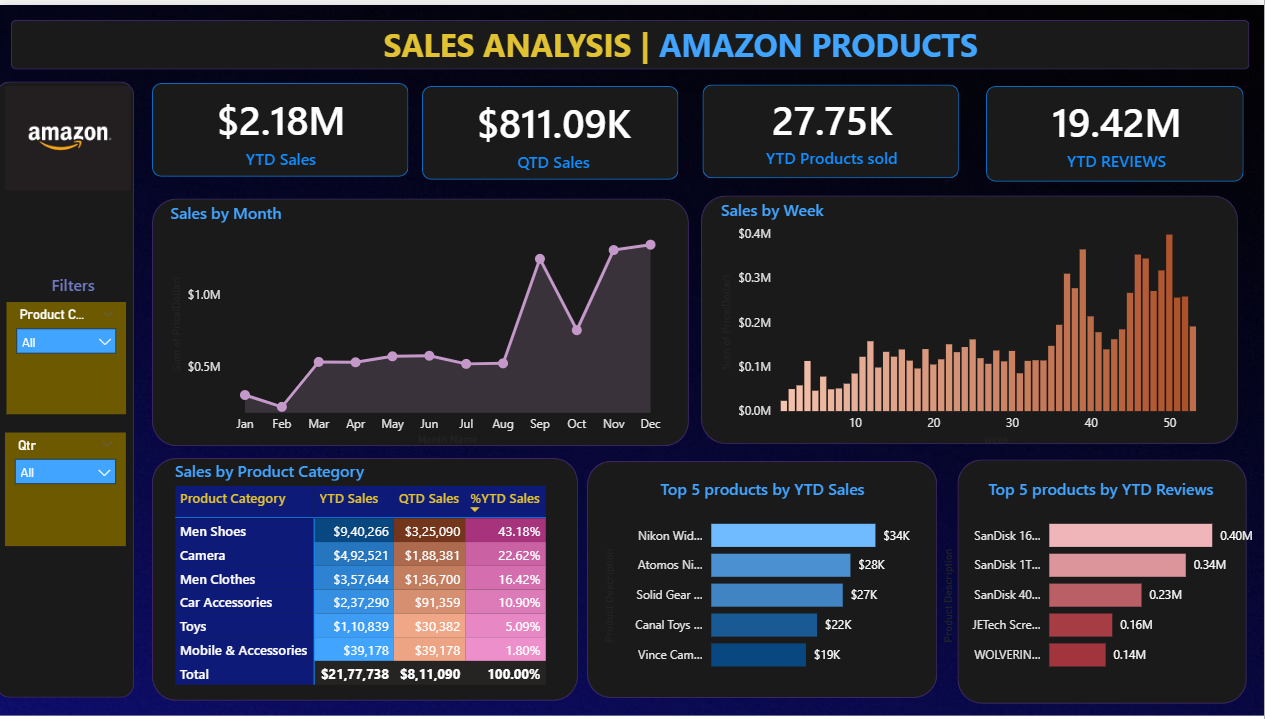

What the dashboard file says about the page in this screenshot:
{"tool":"powerbi","page":{"name":"Page 1","canvas":[1280,720],"ordinal":0},"visuals":[{"type":"shape","box":[14.8,14.8,1250,50],"z":0},{"type":"shape","box":[156.7,78.4,258.9,94.6],"z":0,"group":"g1"},{"type":"textbox","box":[385.9,11.7,625.1,66],"z":1000},{"type":"card","fields":{"Values":["Amazon_Data.YTD Sales"]},"box":[171,78.4,232.1,94.6],"z":1000,"group":"g1"},{"type":"shape","box":[0,77.8,139.4,622.2],"z":2000},{"type":"shape","box":[429.9,82,258.9,94.6],"z":2000,"group":"g1"},{"type":"group","id":"g1","title":"Group 1","box":[156.7,78.4,1104.3,99.7],"z":3000},{"type":"card","fields":{"Values":["Amazon_Data.QTD Sales"]},"box":[431.7,82,258.9,94.6],"z":3000,"group":"g1"},{"type":"shape","box":[712.7,80.2,258.9,94.6],"z":4000,"group":"g1"},{"type":"shape","box":[157,195,542,250],"z":4000},{"type":"shape","box":[998,81.2,260.1,96.5],"z":5000,"group":"g1"},{"type":"areaChart","title":"Sales  by Month ","fields":{"Category":["Date Table.Month Name"],"Y":["Sum(Amazon_Data.Price(Dollar))"]},"box":[171.7,198.1,509.2,250.9],"z":5000},{"type":"card","fields":{"Values":["Amazon_Data.YTD Products sold"]},"box":[713.7,78.5,257.4,93.9],"z":6000,"group":"g1"},{"type":"shape","box":[711.8,192.5,542.1,250.8],"z":6000},{"type":"card","fields":{"Values":["Amazon_Data.YTD REVIEWS"]},"box":[1000.6,81.8,260,92.6],"z":7000,"group":"g1"},{"type":"columnChart","title":"Sales by Week","fields":{"Category":["Date Table.week"],"Y":["Sum(Amazon_Data.Price(Dollar))"]},"box":[727,195,509.1,253.3],"z":7000},{"type":"shape","box":[157,457.8,430,245.1],"z":8000},{"type":"pivotTable","title":"Sales by Product Category","fields":{"Rows":["Amazon_Data.Product Category"],"Values":["Amazon_Data.YTD Sales1","Amazon_Data.QTD Sales","Amazon_Data.YTD Sales"]},"box":[176.1,459.3,421.2,245.1],"z":9000},{"type":"shape","box":[597.2,460.8,353.6,239.2],"z":10000},{"type":"shape","box":[970,459.3,292,246.5],"z":11000},{"type":"clusteredBarChart","title":"Top 5 products by YTD Sales","fields":{"Category":["Amazon_Data.Product Description"],"Y":["Amazon_Data.YTD Sales"]},"box":[609,476.9,330.2,208.4],"z":12000},{"type":"clusteredBarChart","title":"Top 5 products by YTD Reviews","fields":{"Category":["Amazon_Data.Product Description"],"Y":["Amazon_Data.YTD REVIEWS"]},"box":[950.9,476.9,328.7,208.4],"z":13000},{"type":"slicer","fields":{"Values":["Amazon_Data.Product Category"]},"box":[11,300.5,120.9,113.6],"z":14000},{"type":"slicer","fields":{"Values":["Date Table.Qtr"]},"box":[8.8,431.4,121.8,114.5],"z":15000},{"type":"image","box":[0,82.2,145.3,105.7],"z":16000},{"type":"textbox","box":[23.5,267.1,107.1,33.8],"z":17000}]}

Visuals, with their boxes in screenshot pixels (x1, y1, x2, y2), scaled from the page's 1280x720 canvas onto the 1267x719 screenshot:
shape: rect(15, 15, 1252, 65)
shape: rect(155, 78, 411, 173)
textbox: rect(382, 12, 1001, 78)
card - Amazon_Data.YTD Sales: rect(169, 78, 399, 173)
shape: rect(0, 78, 138, 699)
shape: rect(426, 82, 682, 176)
"Group 1" group: rect(155, 78, 1248, 178)
card - Amazon_Data.QTD Sales: rect(427, 82, 684, 176)
shape: rect(705, 80, 962, 175)
shape: rect(155, 195, 692, 444)
shape: rect(988, 81, 1245, 177)
"Sales  by Month " areaChart: rect(170, 198, 674, 448)
card - Amazon_Data.YTD Products sold: rect(706, 78, 961, 172)
shape: rect(705, 192, 1241, 443)
card - Amazon_Data.YTD REVIEWS: rect(990, 82, 1248, 174)
"Sales by Week" columnChart: rect(720, 195, 1224, 448)
shape: rect(155, 457, 581, 702)
"Sales by Product Category" pivotTable: rect(174, 459, 591, 703)
shape: rect(591, 460, 941, 699)
shape: rect(960, 459, 1249, 705)
"Top 5 products by YTD Sales" clusteredBarChart: rect(603, 476, 930, 684)
"Top 5 products by YTD Reviews" clusteredBarChart: rect(941, 476, 1266, 684)
slicer - Amazon_Data.Product Category: rect(11, 300, 131, 414)
slicer - Date Table.Qtr: rect(9, 431, 129, 545)
image: rect(0, 82, 144, 188)
textbox: rect(23, 267, 129, 300)
